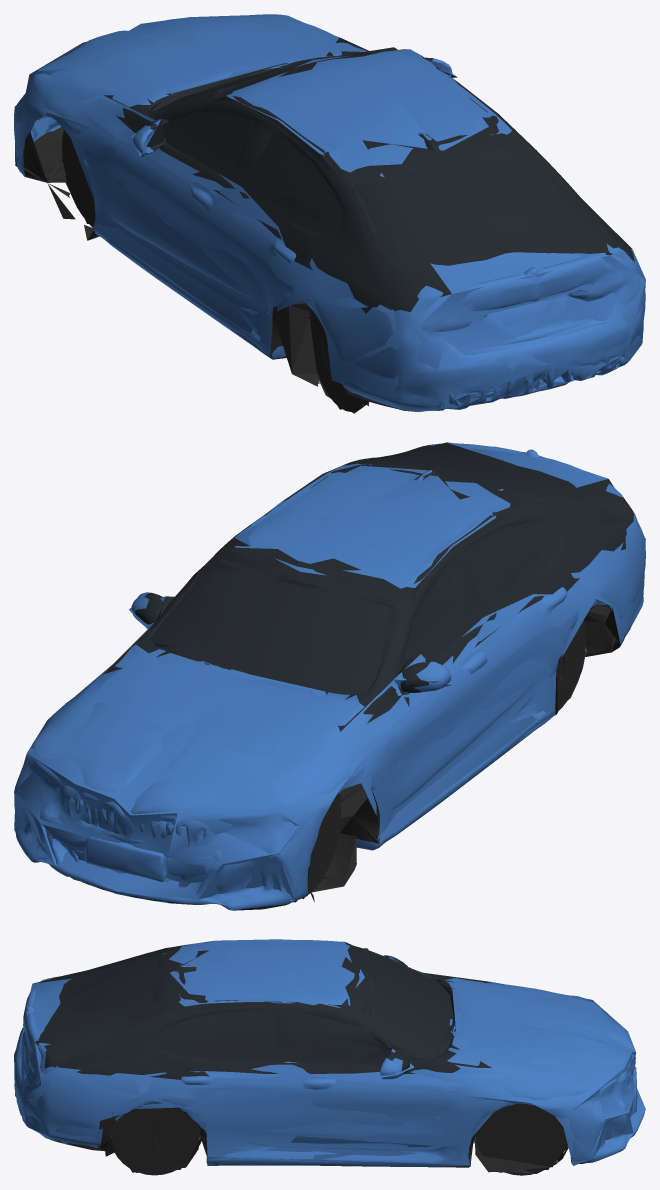
File: bmw-i5.glb
The picture shows the model from 3 angles, top to bottom: view 1: azimuth 30°, elevation 25°; view 2: azimuth 150°, elevation 25°; view 3: azimuth 270°, elevation 25°; orthographic projection. The views are drawn at different scales.
Parts seen in each view (by area): view 1: body, far; view 2: body, far; view 3: body, far.
Part boxes in pixels (left/top/right/bottom): body: left=14, top=14, right=645, bottom=413; far: left=14, top=14, right=645, bottom=409; body: left=14, top=443, right=645, bottom=910; far: left=14, top=442, right=645, bottom=906; body: left=14, top=939, right=644, bottom=1175; far: left=14, top=939, right=645, bottom=1172.
Size of the model in its own units: 2.2 by 1.54 by 5.13.
